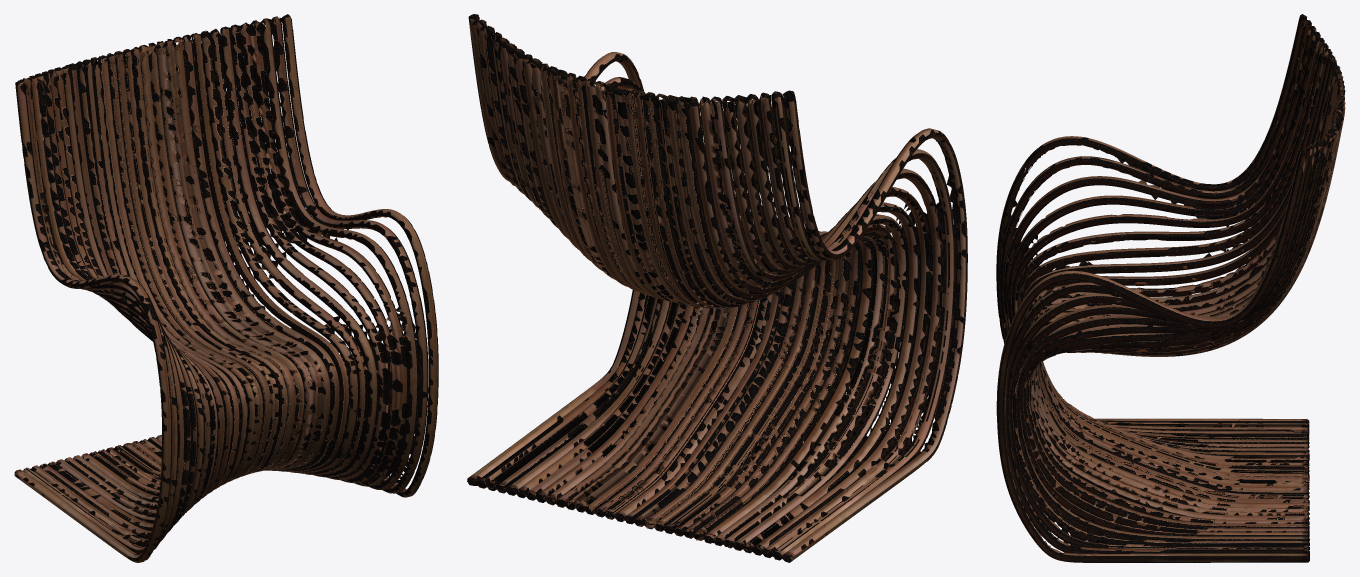
Rendered from skd0e2b567.glb.
The picture shows the model from 3 angles, left to right: view 1: azimuth 30°, elevation 25°; view 2: azimuth 150°, elevation 25°; view 3: azimuth 270°, elevation 25°; orthographic projection. The views are drawn at different scales.
Parts seen in each view (by area): view 1: Plane.004_0; view 2: Plane.004_0; view 3: Plane.004_0.
Boxes of the visible parts, x1=… form: Plane.004_0: x1=14, y1=14, x2=438, y2=562; Plane.004_0: x1=467, y1=14, x2=967, y2=562; Plane.004_0: x1=996, y1=14, x2=1345, y2=562.
Size of the model in its own units: 0.5631 by 0.7763 by 0.5961.
1 material, 1 textured.
